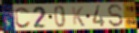0: (53, 5, 67, 29)
2: (32, 5, 49, 30)
4: (92, 4, 107, 28)
C: (14, 6, 32, 29)
K: (71, 6, 86, 28)
S: (106, 3, 125, 28)
